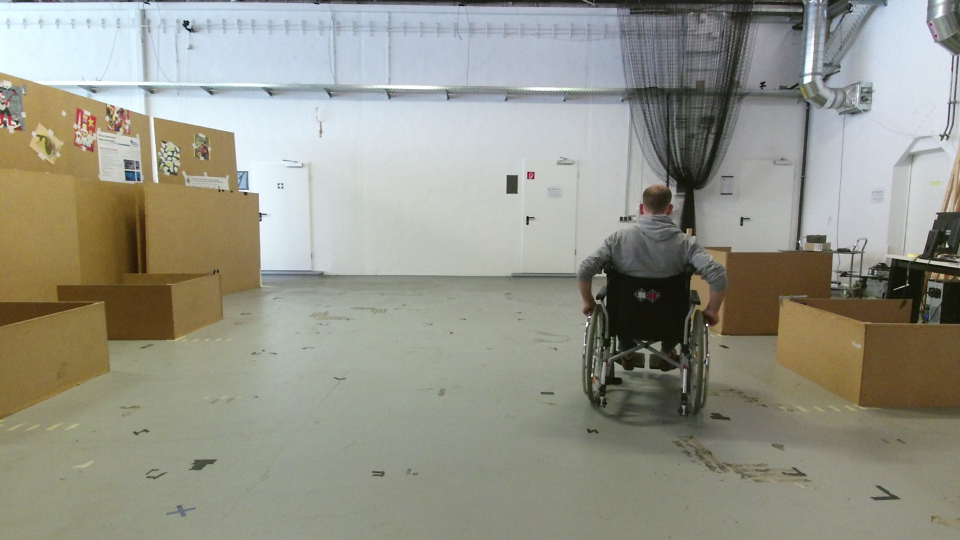wheelchair: (569, 181, 732, 424)
